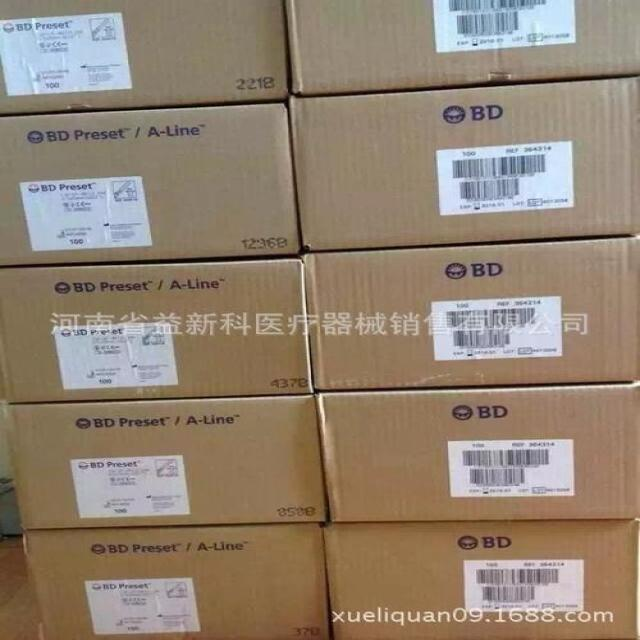box: (291, 78, 639, 253), (306, 235, 639, 391), (0, 106, 291, 271), (0, 258, 316, 408), (1, 395, 322, 533), (314, 387, 639, 522), (326, 519, 639, 636), (29, 524, 330, 638), (282, 2, 639, 97), (0, 0, 290, 112)
